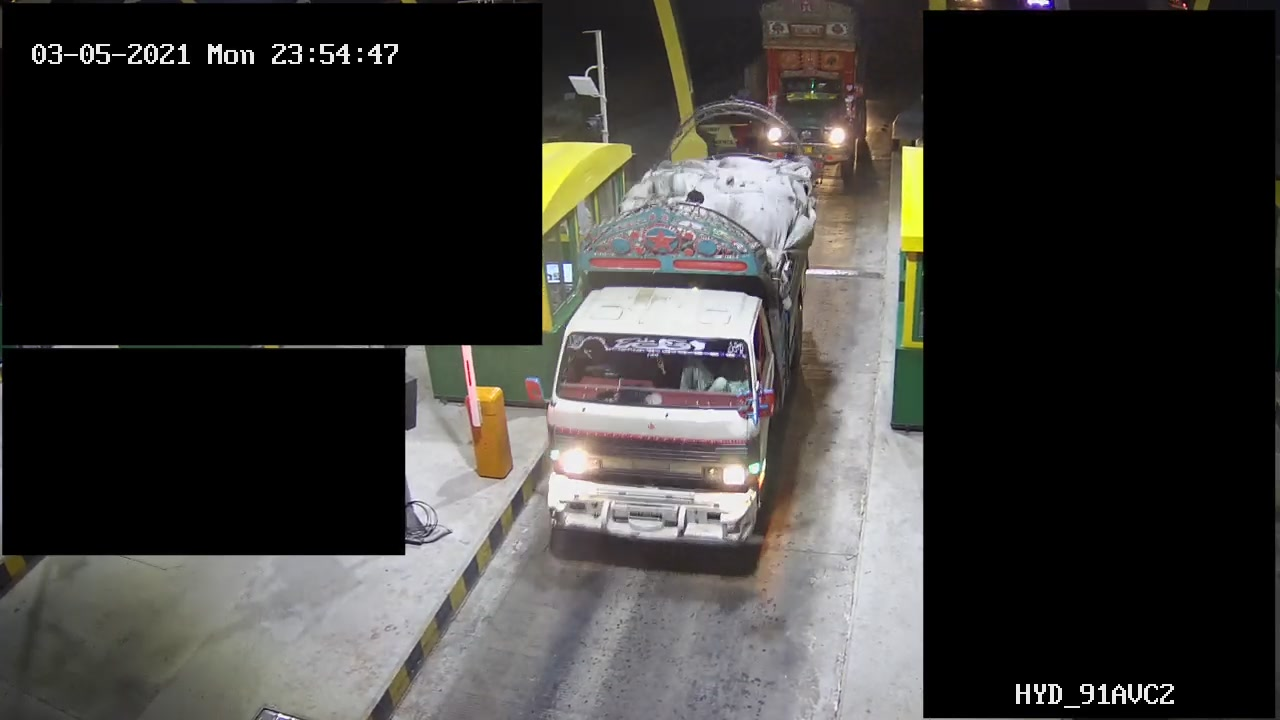F5: (543, 153, 818, 543)
